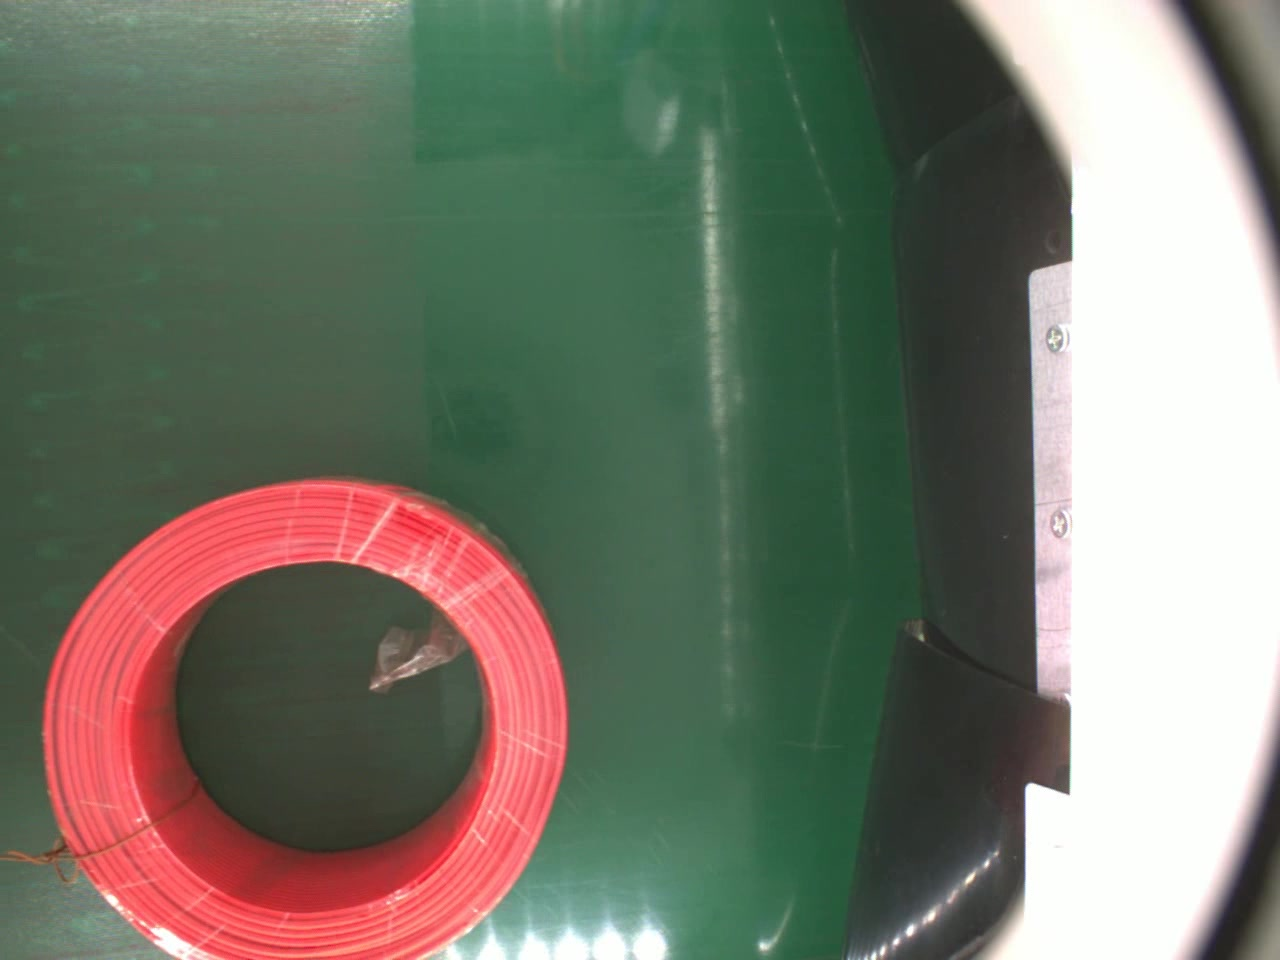red: (39, 478, 569, 960)
